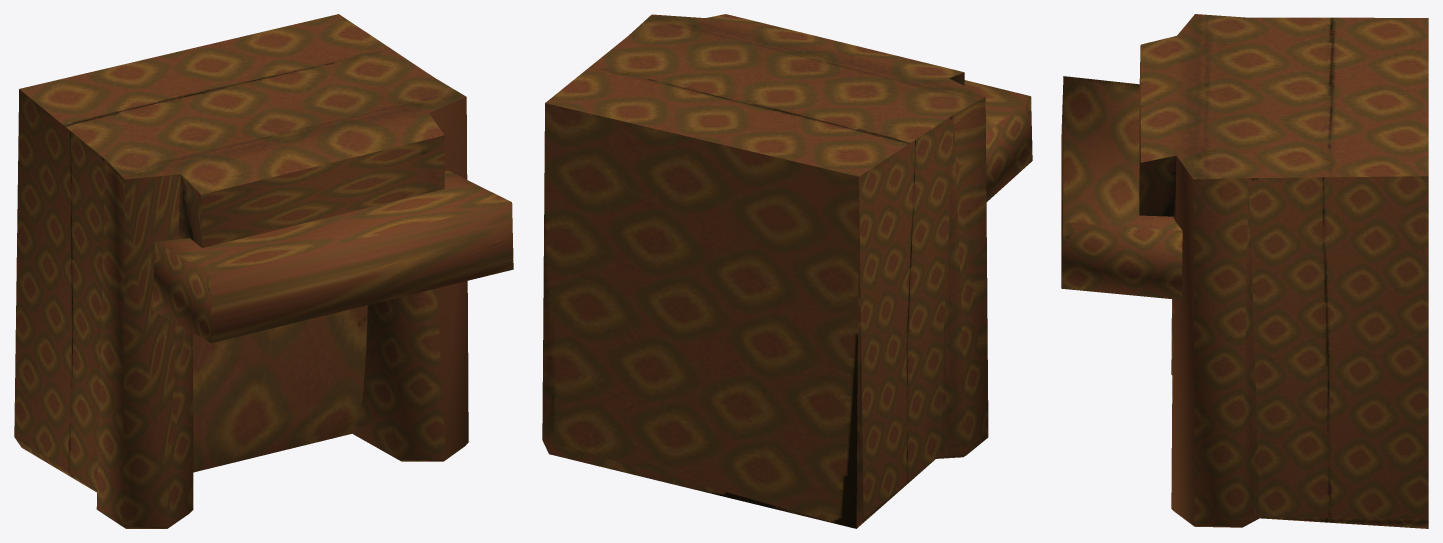
File: nt_2020_moving_chair_01_LOD2.obj
3 views of the same model, side by side, from view 1: azimuth 30°, elevation 25°; view 2: azimuth 150°, elevation 25°; view 3: azimuth 270°, elevation 25° (orthographic).
Parts seen in each view (by area): view 1: mtl_nt_2020_moving_chair_01; view 2: mtl_nt_2020_moving_chair_01; view 3: mtl_nt_2020_moving_chair_01.
Part boxes in pixels (x1=…): mtl_nt_2020_moving_chair_01: x1=14, y1=14, x2=513, y2=528; mtl_nt_2020_moving_chair_01: x1=542, y1=14, x2=1032, y2=528; mtl_nt_2020_moving_chair_01: x1=1061, y1=14, x2=1428, y2=528.
Bounding box in the file's own units: 98.43 × 96.68 × 90.
